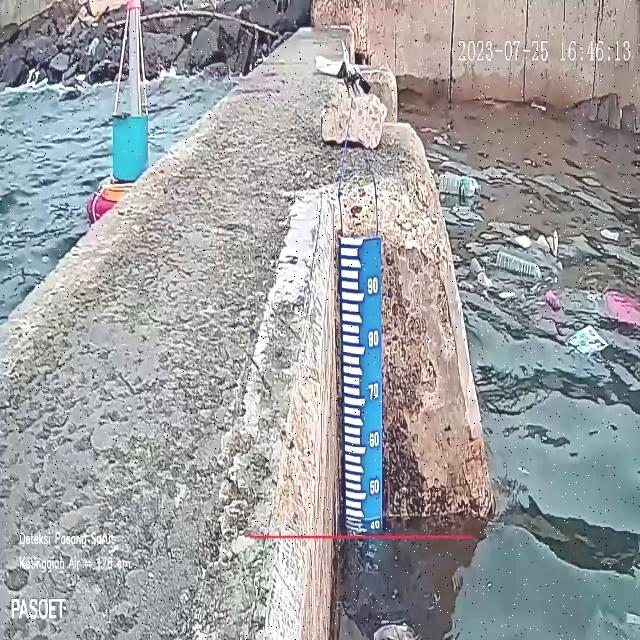50: (369, 477, 380, 495)
60: (368, 431, 380, 448)
70: (368, 382, 379, 401)
80: (367, 330, 378, 348)
90: (367, 278, 378, 296)
staff: (340, 236, 382, 534)
